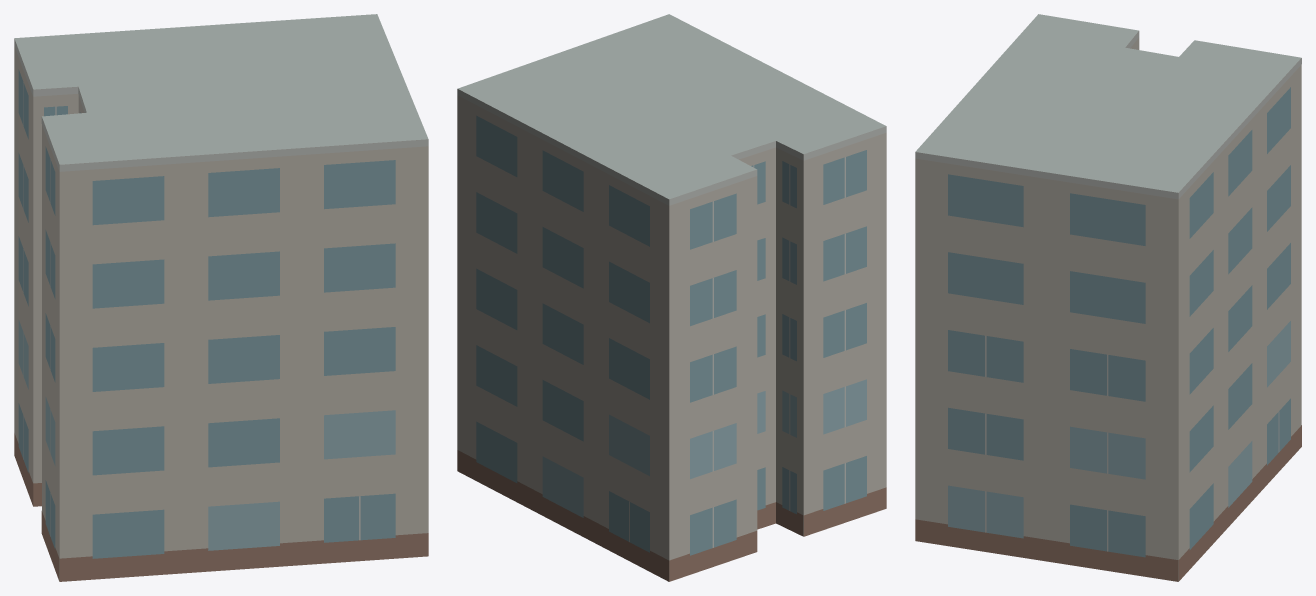
The model's file is survey-upis-32878848.glb.
3 views of the same model, side by side, from view 1: azimuth 30°, elevation 25°; view 2: azimuth 150°, elevation 25°; view 3: azimuth 270°, elevation 25° (orthographic). The views are drawn at different scales.
Visible parts, largest first — view 1: survey-upis-32878848.tmp; view 2: survey-upis-32878848.tmp; view 3: survey-upis-32878848.tmp.
Boxes of the visible parts, x1,y1,x2,y2 form: survey-upis-32878848.tmp: (14,14,428,581); survey-upis-32878848.tmp: (457,14,886,581); survey-upis-32878848.tmp: (915,14,1301,581).
Bounding box in the file's own units: 14.2 × 14.4 × 12.98.
